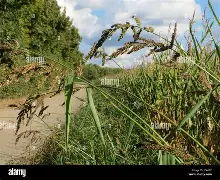weed: (37, 19, 219, 164)
